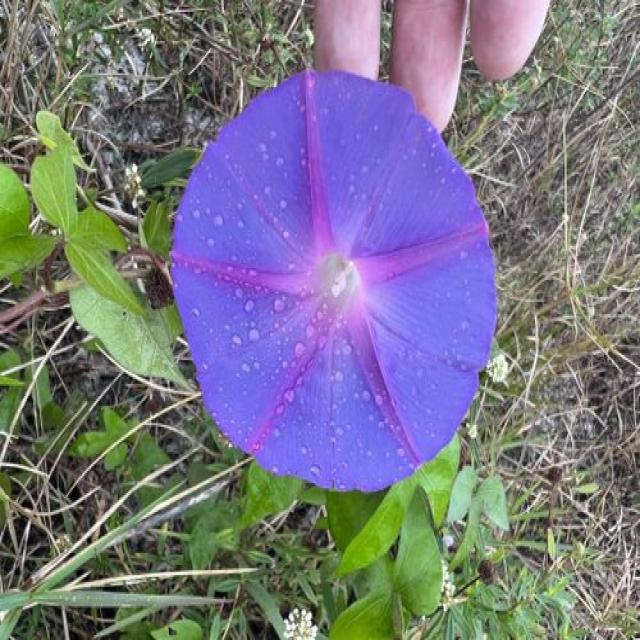ipomoea: (165, 64, 501, 497), (278, 602, 321, 638)
